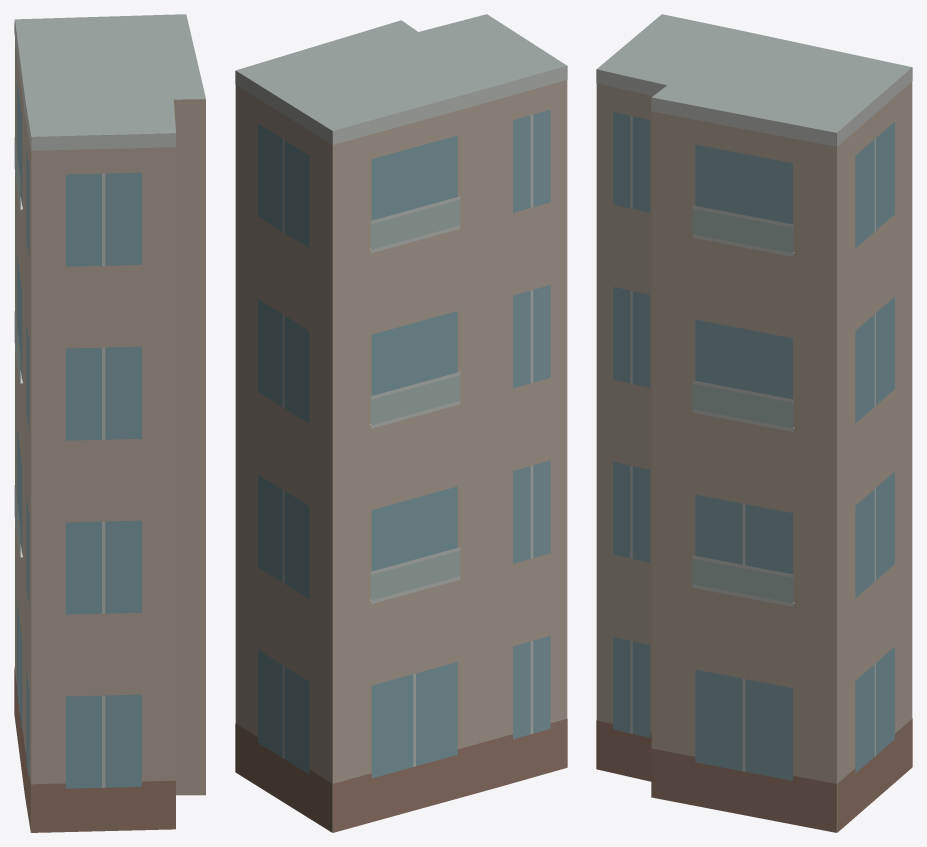
Rendered from survey-upis-32472229.glb.
The picture shows the model from 3 angles, left to right: view 1: azimuth 30°, elevation 25°; view 2: azimuth 150°, elevation 25°; view 3: azimuth 270°, elevation 25°; orthographic projection.
Visible parts, largest first — view 1: survey-upis-32472229.tmp; view 2: survey-upis-32472229.tmp; view 3: survey-upis-32472229.tmp.
Boxes of the visible parts, x1=… form: survey-upis-32472229.tmp: x1=14, y1=14, x2=205, y2=832; survey-upis-32472229.tmp: x1=235, y1=14, x2=567, y2=832; survey-upis-32472229.tmp: x1=596, y1=14, x2=912, y2=832.
Bounding box in the file's own units: 4.45 × 12.2 × 5.
